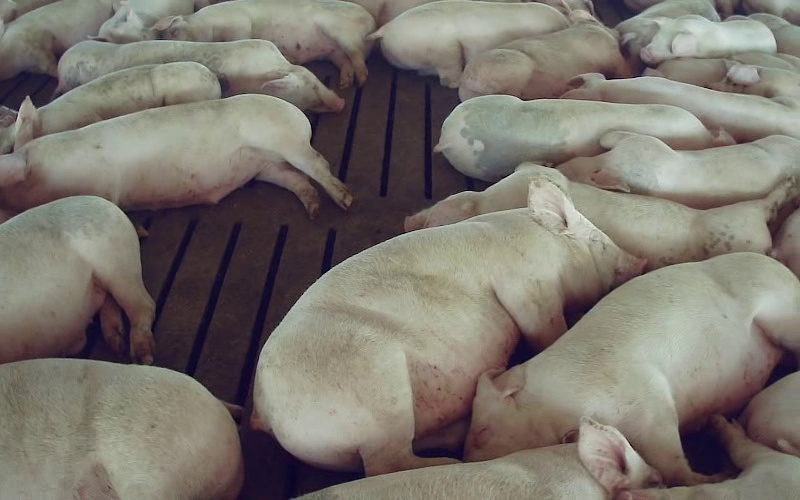pig: (253, 178, 644, 474), (464, 253, 799, 482), (0, 94, 351, 220), (404, 163, 799, 268), (297, 417, 659, 499), (0, 196, 154, 363), (434, 95, 712, 181), (57, 40, 343, 111), (155, 0, 375, 87), (559, 132, 799, 208), (14, 62, 220, 148), (369, 0, 569, 87), (563, 73, 799, 142), (459, 10, 632, 100), (640, 15, 776, 65), (96, 0, 193, 43), (712, 62, 799, 97)
